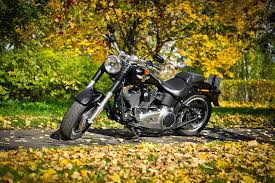motorcycle: (56, 24, 223, 141)
